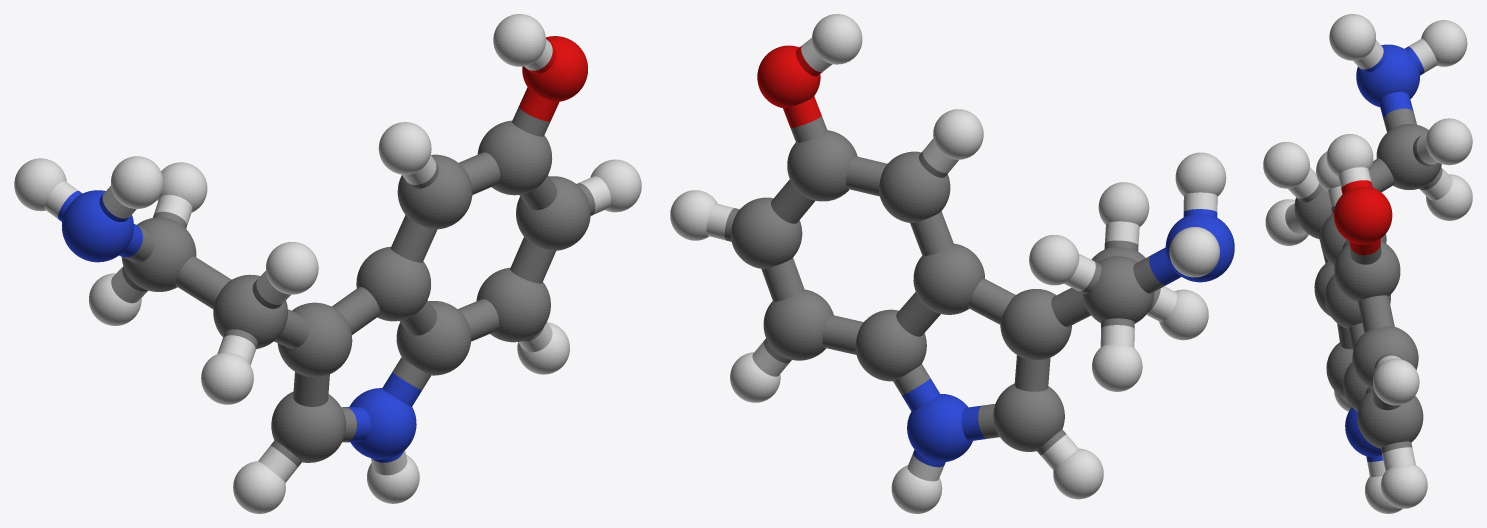
Rendered from serotonina.glb.
3 renders of one model, left to right at view 1: azimuth 30°, elevation 25°; view 2: azimuth 150°, elevation 25°; view 3: azimuth 270°, elevation 25°, orthographic. The views are drawn at different scales.
Visible parts, largest first — view 1: atoms; view 2: atoms; view 3: atoms.
Boxes of the visible parts, x1,y1,x2,y2 form: atoms: [14, 14, 641, 513]; atoms: [670, 14, 1234, 513]; atoms: [1263, 14, 1472, 513].
Bounding box in the file's own units: 9.34 × 7.15 × 3.23.
